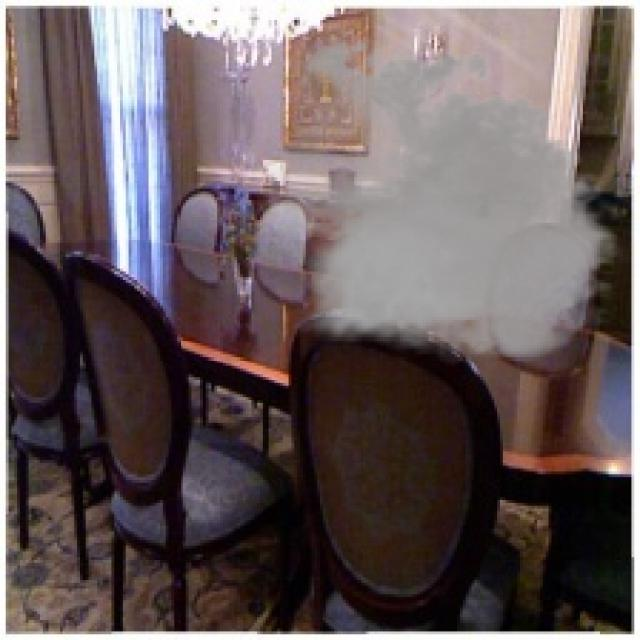smoke: (243, 29, 631, 372)
